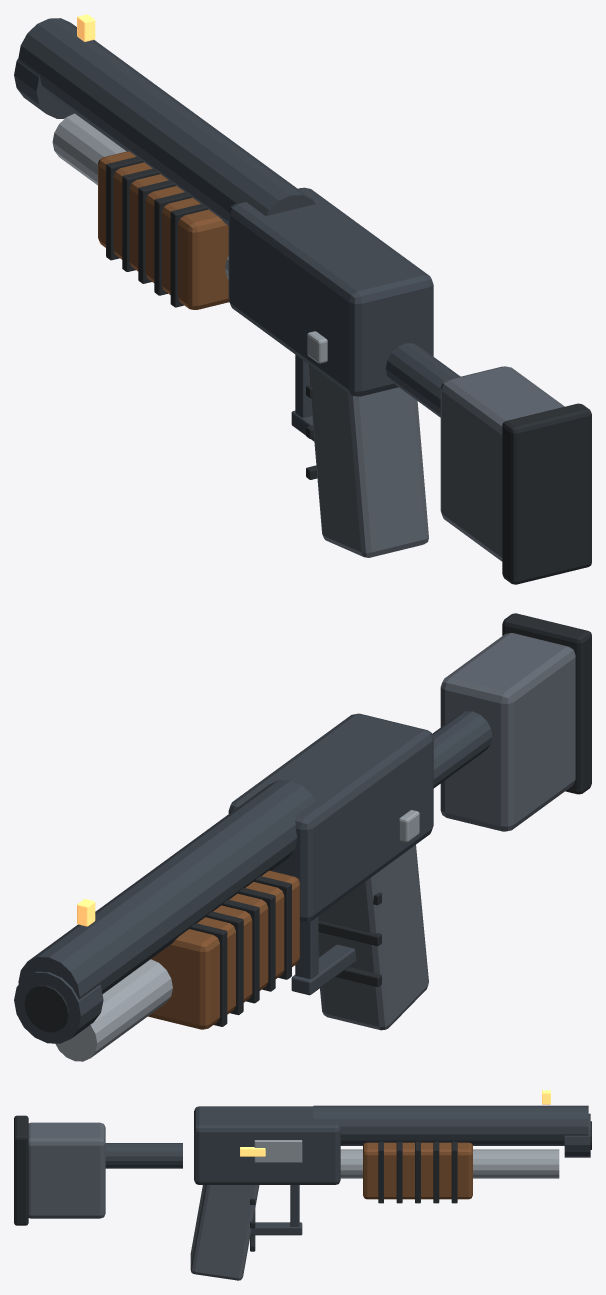
The model's file is escopeta.glb.
3 views of the same model, one above another, from view 1: azimuth 30°, elevation 25°; view 2: azimuth 150°, elevation 25°; view 3: azimuth 270°, elevation 25° (orthographic). The views are drawn at different scales.
Visible parts, largest first — view 1: Arma_escopeta; view 2: Arma_escopeta; view 3: Arma_escopeta.
Part boxes in pixels (x1,y1,x2,y2): Arma_escopeta: (14, 14, 591, 584); Arma_escopeta: (14, 613, 591, 1061); Arma_escopeta: (14, 1090, 591, 1280).
Bounding box in the file's own units: 0.21 × 0.5452 × 1.57.
